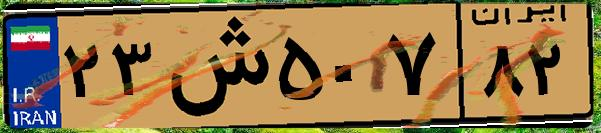0: (330, 28, 385, 110)
2: (57, 26, 110, 100), (525, 38, 570, 115)
3: (110, 28, 158, 98)
5: (270, 28, 330, 110)
7: (385, 28, 445, 110)
8: (475, 38, 525, 113)
ش: (158, 12, 270, 120)
